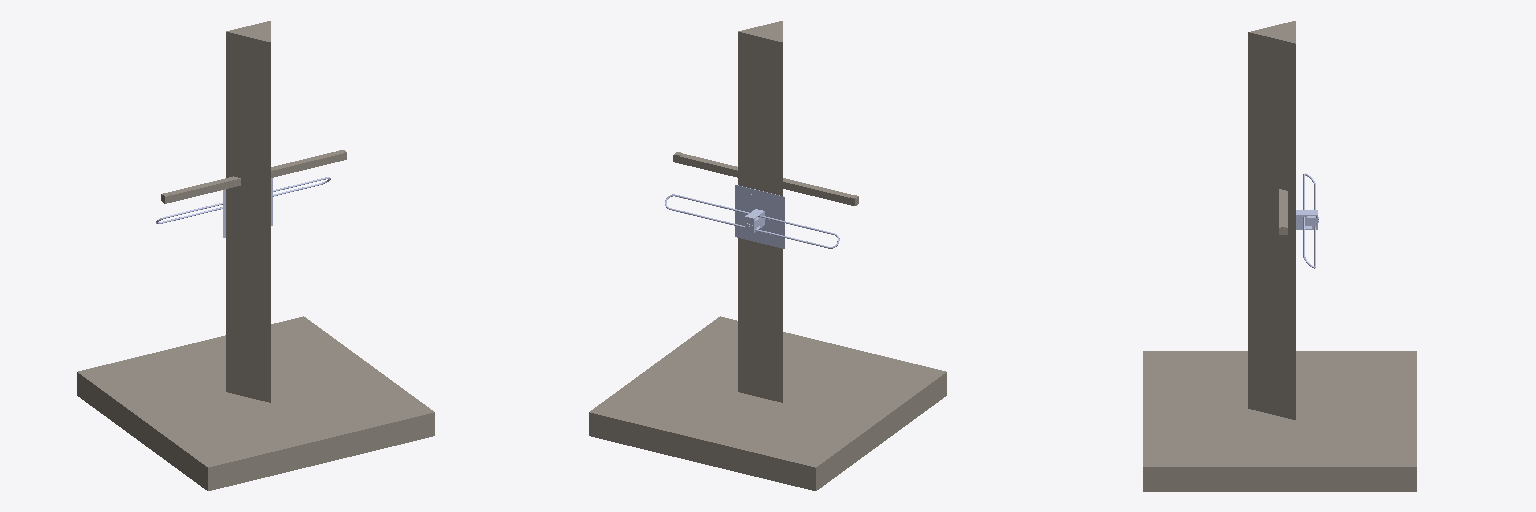
The robot description file, URDF, robot "mast_final":
<?xml version="1.0" encoding="utf-8"?>
<!-- This URDF was automatically created by SolidWorks to URDF Exporter! Originally created by [author] ([email redacted]) 
     Commit Version: 1.5.1-0-g916b5db  Build Version: 1.5.7152.31018
     For more information, please see http://wiki.ros.org/sw_urdf_exporter -->
<robot
  name="mast_final">
  <link
    name="base_link">
    <inertial>
      <origin
        xyz="1.57231279445662 -1.0144669911412 0.525617437502854"
        rpy="0 0 0" />
      <mass
        value="2041.79062805143" />
      <inertia
        ixx="712.052351898976"
        ixy="-2.63915135192742E-14"
        ixz="2.34279466657913E-14"
        iyy="713.057731387081"
        iyz="-0.150621370743809"
        izz="435.977365619412" />
    </inertial>
    <visual>
      <origin
        xyz="0 0 0"
        rpy="0 0 0" />
      <geometry>
        <mesh
          filename="package://mast_final/meshes/base_link.STL" />
      </geometry>
      <material
        name="">
        <color
          rgba="0.650980392156863 0.619607843137255 0.588235294117647 1" />
      </material>
    </visual>
    <collision>
      <origin
        xyz="0 0 0"
        rpy="0 0 0" />
      <geometry>
        <mesh
          filename="package://mast_final/meshes/base_link.STL" />
      </geometry>
    </collision>
  </link>
  <link
    name="text_board">
    <inertial>
      <origin
        xyz="0 0.0762000000000005 0.00126999999999988"
        rpy="0 0 0" />
      <mass
        value="0.198283474399999" />
      <inertia
        ixx="0.00129001264777298"
        ixy="3.98191418820427E-19"
        ixz="-2.32763673216149E-35"
        iyy="0.00129001264777298"
        iyz="1.36369182639754E-21"
        izz="0.00257981208793538" />
    </inertial>
    <visual>
      <origin
        xyz="0 0 0"
        rpy="0 0 0" />
      <geometry>
        <mesh
          filename="package://mast_final/meshes/text_board.STL" />
      </geometry>
      <material
        name="">
        <color
          rgba="0.792156862745098 0.819607843137255 0.933333333333333 1" />
      </material>
    </visual>
    <collision>
      <origin
        xyz="0 0 0"
        rpy="0 0 0" />
      <geometry>
        <mesh
          filename="package://mast_final/meshes/text_board.STL" />
      </geometry>
    </collision>
  </link>
  <joint
    name="text_board_joint"
    type="fixed">
    <origin
      xyz="1.5723 -0.93868 1.2601"
      rpy="1.5708 0 0" />
    <parent
      link="base_link" />
    <child
      link="text_board" />
    <axis
      xyz="0 0 0" />
  </joint>
  <link
    name="module_holder">
    <inertial>
      <origin
        xyz="-7.99360577730113E-15 0.0762000000000003 0.0197263635737815"
        rpy="0 0 0" />
      <mass
        value="0.11214039511857" />
      <inertia
        ixx="9.70687893984366E-05"
        ixy="9.26413928290587E-21"
        ixz="2.03829629671887E-18"
        iyy="7.06380938728365E-05"
        iyz="8.35461051015716E-19"
        izz="7.12797207192067E-05" />
    </inertial>
    <visual>
      <origin
        xyz="0 0 0"
        rpy="0 0 0" />
      <geometry>
        <mesh
          filename="package://mast_final/meshes/module_holder.STL" />
      </geometry>
      <material
        name="">
        <color
          rgba="0.792156862745098 0.819607843137255 0.933333333333333 1" />
      </material>
    </visual>
    <collision>
      <origin
        xyz="0 0 0"
        rpy="0 0 0" />
      <geometry>
        <mesh
          filename="package://mast_final/meshes/module_holder.STL" />
      </geometry>
    </collision>
  </link>
  <joint
    name="module_holder_joint"
    type="fixed">
    <origin
      xyz="0 0 0"
      rpy="3.1416 0 3.1416" />
    <parent
      link="text_board" />
    <child
      link="module_holder" />
    <axis
      xyz="0 0 0" />
  </joint>
  <link
    name="module">
    <inertial>
      <origin
        xyz="-4.37322122872619E-05 -6.88338275267597E-15 -0.0762437322122753"
        rpy="0 0 0" />
      <mass
        value="0.210240234105137" />
      <inertia
        ixx="0.000144964399274192"
        ixy="-1.55043735137087E-19"
        ixz="7.69893142388261E-06"
        iyy="0.000210860549972284"
        iyz="5.77492512809805E-20"
        izz="0.00016320845177539" />
    </inertial>
    <visual>
      <origin
        xyz="0 0 0"
        rpy="0 0 0" />
      <geometry>
        <mesh
          filename="package://mast_final/meshes/module.STL" />
      </geometry>
      <material
        name="">
        <color
          rgba="0.792156862745098 0.819607843137255 0.933333333333333 1" />
      </material>
    </visual>
    <collision>
      <origin
        xyz="0 0 0"
        rpy="0 0 0" />
      <geometry>
        <mesh
          filename="package://mast_final/meshes/module.STL" />
      </geometry>
    </collision>
  </link>
  <joint
    name="module_joint"
    type="fixed">
    <origin
      xyz="0 0 0.063499999999987"
      rpy="1.5707963267949 1.5707963267949 0" />
    <parent
      link="module_holder" />
    <child
      link="module" />
    <axis
      xyz="0 0 0" />
  </joint>
  <link
    name="antenna">
    <inertial>
      <origin
        xyz="0.0749299249686706 0.444499999999869 0.00116306750727202"
        rpy="0 0 0" />
      <mass
        value="0.146772870770587" />
      <inertia
        ixx="0.0123105530911053"
        ixy="-1.79128018388E-18"
        ixz="-9.11310607191617E-05"
        iyy="0.000183971311773103"
        iyz="-8.4790022069342E-17"
        izz="0.012310553091081" />
    </inertial>
    <visual>
      <origin
        xyz="0 0 0"
        rpy="0 0 0" />
      <geometry>
        <mesh
          filename="package://mast_final/meshes/antenna.STL" />
      </geometry>
      <material
        name="">
        <color
          rgba="0.792156862745098 0.819607843137255 0.933333333333333 1" />
      </material>
    </visual>
    <collision>
      <origin
        xyz="0 0 0"
        rpy="0 0 0" />
      <geometry>
        <mesh
          filename="package://mast_final/meshes/antenna.STL" />
      </geometry>
    </collision>
  </link>
  <joint
    name="antenna_joint"
    type="fixed">
    <origin
      xyz="-3.84411947432772E-05 -0.453117894595501 0.000110444908988594"
      rpy="0 1.56939301276017 0" />
    <parent
      link="module" />
    <child
      link="antenna" />
    <axis
      xyz="0 0 0" />
  </joint>
  <link
    name="text_excrude">
    <inertial>
      <origin
        xyz="-5.10702591327572E-15 0.000127000000000099 -8.88178419700125E-16"
        rpy="0 0 0" />
      <mass
        value="0.00360515407999994" />
      <inertia
        ixx="7.75319784594322E-07"
        ixy="-1.65086861763454E-19"
        ixz="-1.86910501781115E-19"
        iyy="2.42281375651333E-05"
        iyz="-2.913430086518E-21"
        izz="2.3452856545559E-05" />
    </inertial>
    <visual>
      <origin
        xyz="0 0 0"
        rpy="0 0 0" />
      <geometry>
        <mesh
          filename="package://mast_final/meshes/text_excrude.STL" />
      </geometry>
      <material
        name="">
        <color
          rgba="0.792156862745098 0.819607843137255 0.933333333333333 1" />
      </material>
    </visual>
    <collision>
      <origin
        xyz="0 0 0"
        rpy="0 0 0" />
      <geometry>
        <mesh
          filename="package://mast_final/meshes/text_excrude.STL" />
      </geometry>
    </collision>
  </link>
  <joint
    name="text_excrude_joint"
    type="fixed">
    <origin
      xyz="0 0.16002 0"
      rpy="-1.5708 0 3.1416" />
    <parent
      link="text_board" />
    <child
      link="text_excrude" />
    <axis
      xyz="0 0 0" />
  </joint>
</robot>

--- What the picture shows (computed from the rendered views, not written in the file) ---
Views: 3 orthographic renders of the robot side by side, from view 1: azimuth 30°, elevation 25°; view 2: azimuth 150°, elevation 25°; view 3: azimuth 270°, elevation 25°.
Model mast_final with 6 links and 5 joints (5 fixed), rooted at base_link, posed all joints at 0.
Visible links, largest first — view 1: base_link; view 2: base_link, text_board, antenna; view 3: base_link.
Link boxes in pixels (bbox=[...]): base_link: bbox=[77, 21, 434, 490]; base_link: bbox=[589, 21, 946, 490]; text_board: bbox=[735, 185, 784, 248]; antenna: bbox=[665, 194, 839, 248]; base_link: bbox=[1143, 21, 1416, 491].
Size in the robot's own frame: 1.27 by 1.27 by 2.05 metres.
Meshes: 6 distinct files referenced, 6 mesh visuals loaded (6 binary STL).